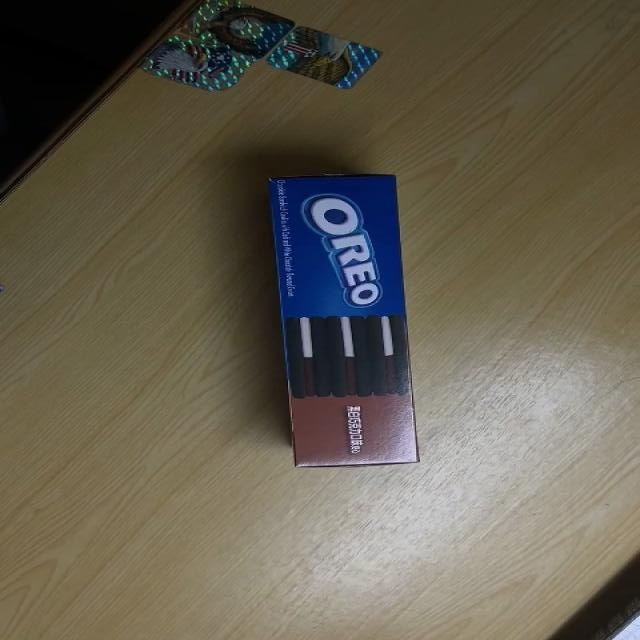Oreo: (268, 173, 422, 468)
